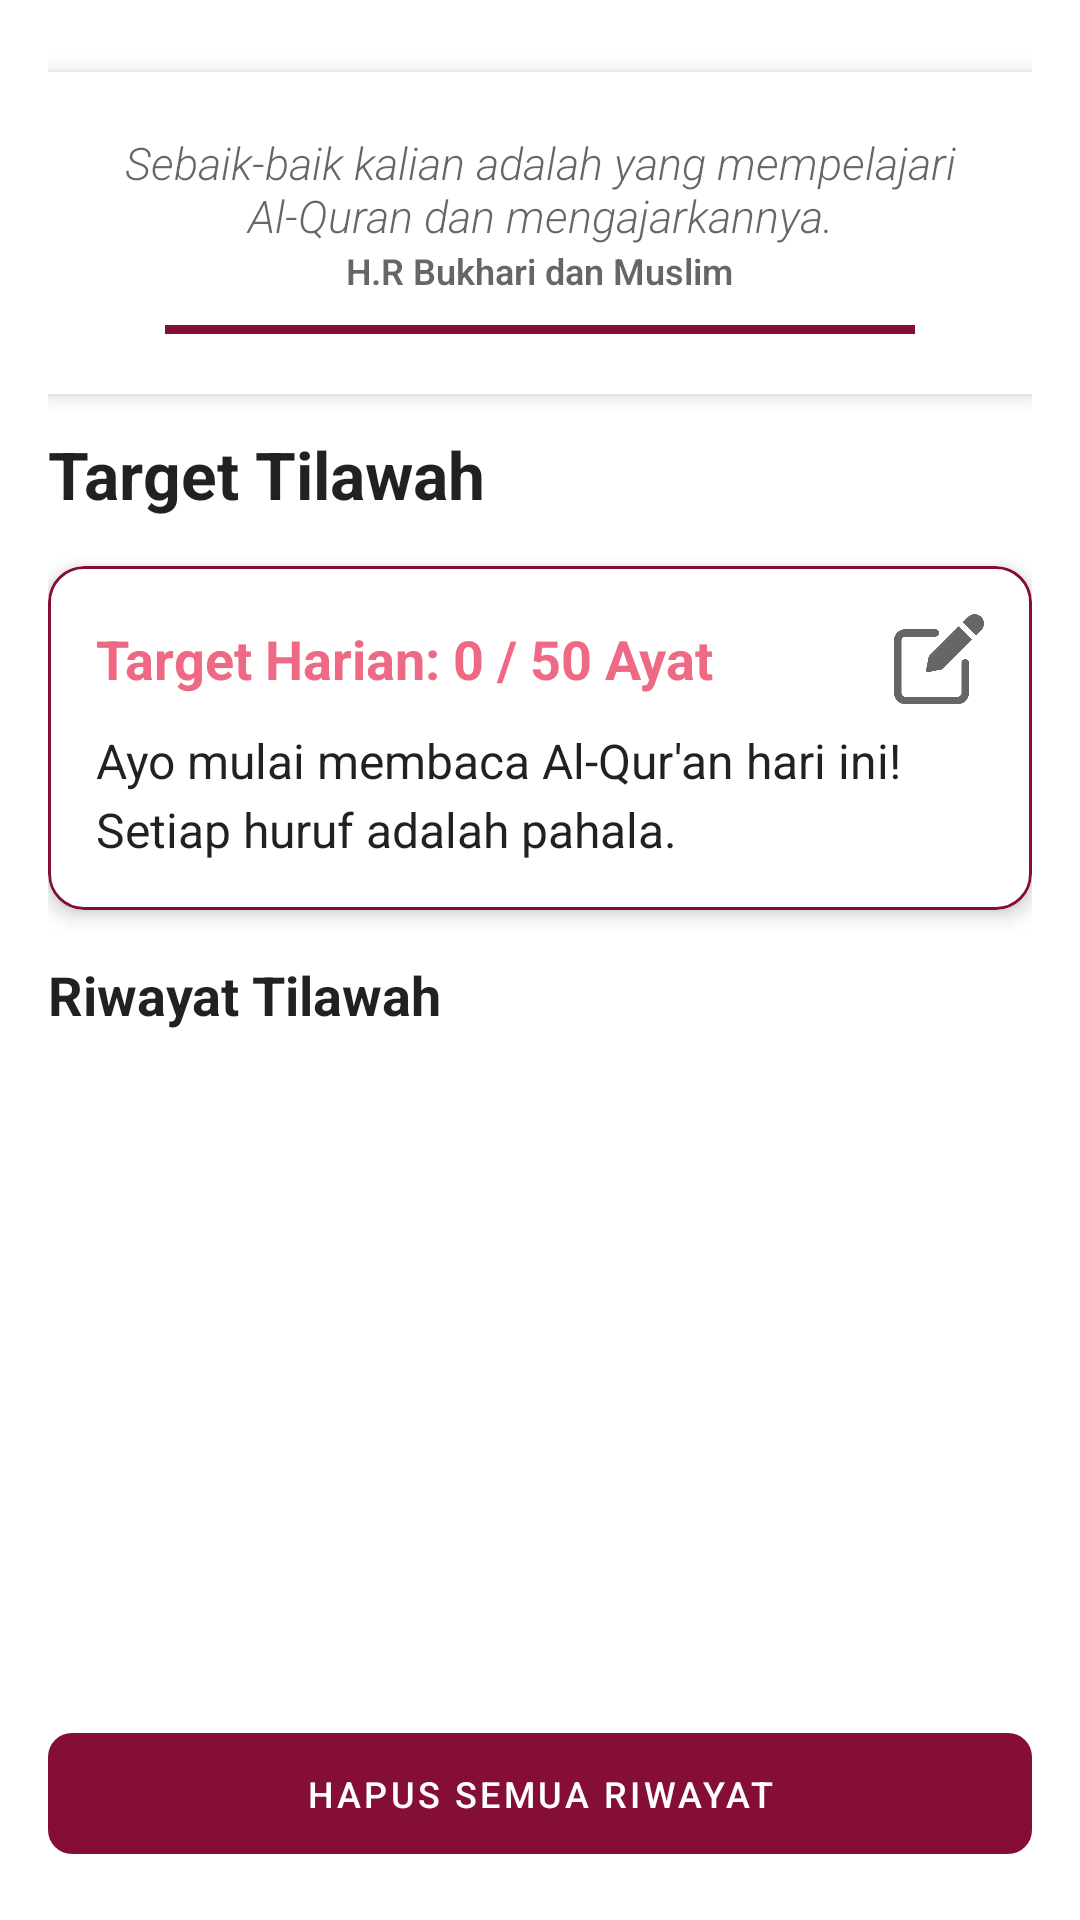

Icons on this 1080*1920 Android screen, each with its box as (x1, y1, x2, y2):
Edit Target Harian: (894, 614, 984, 704)
